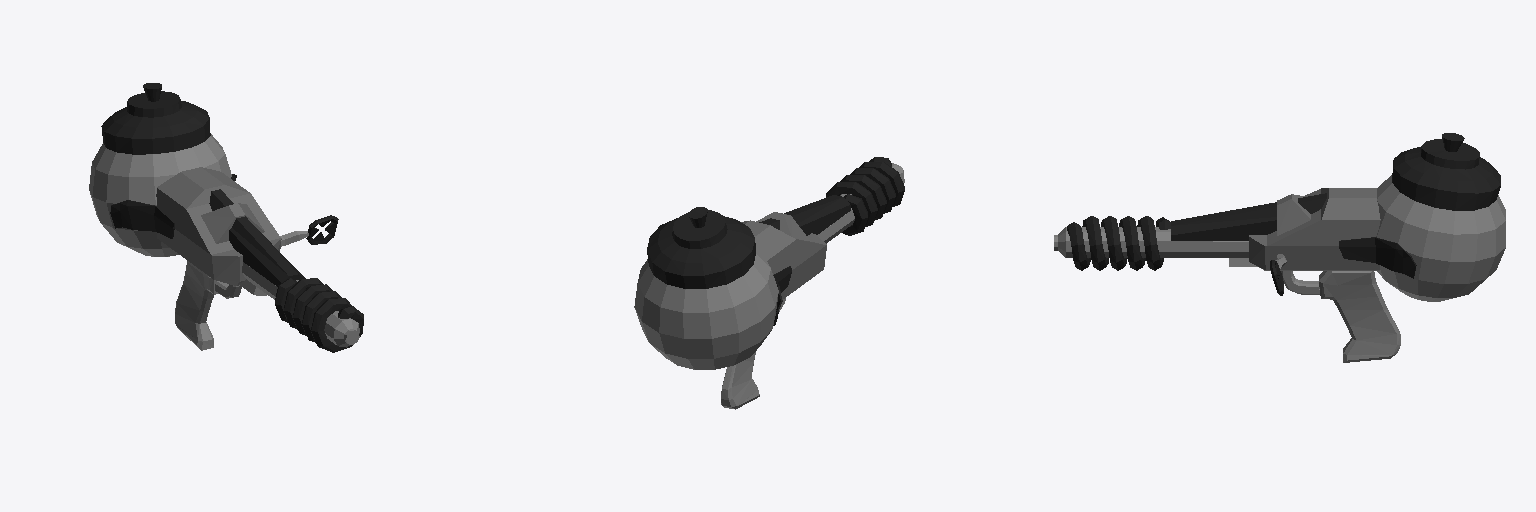
File: Gumballlauncher.obj
3 views of the same model, side by side, from view 1: azimuth 30°, elevation 25°; view 2: azimuth 150°, elevation 25°; view 3: azimuth 270°, elevation 25° (orthographic).
Parts seen in each view (by area): view 1: Gumball_Glass, Gumball_Body_Top, Gumball_Glass_Top, Gumball_Spiral, Gumball_Barell_Guard, Gumball_Grip, Gumball_Body_Bot, Gumball_Tape, Gumball_Barell, Gumball_Sight; view 2: Gumball_Glass, Gumball_Glass_Top, Gumball_Spiral, Gumball_Body_Top, Gumball_Barell_Guard, Gumball_Grip, Gumball_Body_Bot, Gumball_Barell; view 3: Gumball_Glass, Gumball_Glass_Top, Gumball_Body_Top, Gumball_Grip, Gumball_Spiral, Gumball_Barell_Guard, Gumball_Barell, Gumball_Body_Bot, Gumball_Tape, Gumball_Trigger.
Boxes of the visible parts, <box> form: Gumball_Glass: <box>89,134,231,256</box>; Gumball_Body_Top: <box>156,167,280,254</box>; Gumball_Glass_Top: <box>101,83,210,154</box>; Gumball_Spiral: <box>275,278,363,352</box>; Gumball_Barell_Guard: <box>209,189,305,286</box>; Gumball_Grip: <box>175,261,218,350</box>; Gumball_Body_Bot: <box>157,229,281,285</box>; Gumball_Tape: <box>110,174,236,238</box>; Gumball_Barell: <box>239,262,359,347</box>; Gumball_Sight: <box>306,215,338,244</box>; Gumball_Glass: <box>634,248,778,369</box>; Gumball_Glass_Top: <box>647,207,755,288</box>; Gumball_Spiral: <box>826,157,904,235</box>; Gumball_Body_Top: <box>741,212,825,274</box>; Gumball_Barell_Guard: <box>759,195,850,235</box>; Gumball_Grip: <box>721,350,759,409</box>; Gumball_Body_Bot: <box>781,233,826,299</box>; Gumball_Barell: <box>817,163,904,243</box>; Gumball_Glass: <box>1376,175,1505,301</box>; Gumball_Glass_Top: <box>1392,133,1500,210</box>; Gumball_Body_Top: <box>1267,188,1380,245</box>; Gumball_Grip: <box>1319,271,1400,362</box>; Gumball_Spiral: <box>1067,216,1170,270</box>; Gumball_Barell_Guard: <box>1171,193,1326,240</box>; Gumball_Barell: <box>1054,227,1256,266</box>; Gumball_Body_Bot: <box>1249,235,1379,270</box>; Gumball_Tape: <box>1339,237,1416,278</box>; Gumball_Trigger: <box>1281,271,1319,294</box>.
Size of the model in its own units: 41.17 by 55.33 by 101.